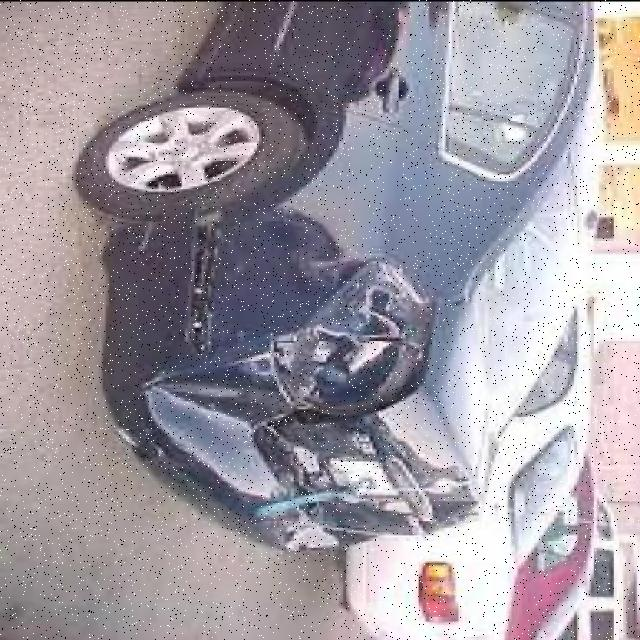damage: (98, 208, 489, 552)
